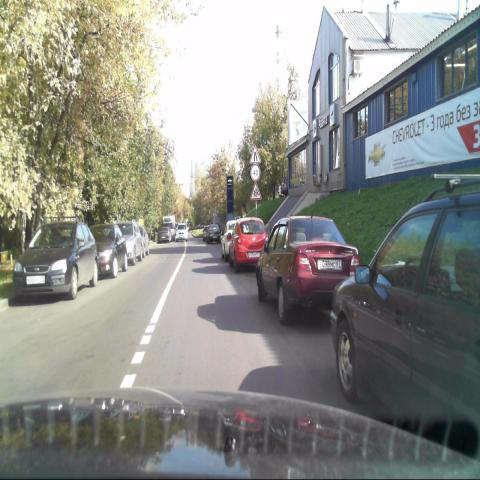1_20_2: (248, 143, 262, 164)
